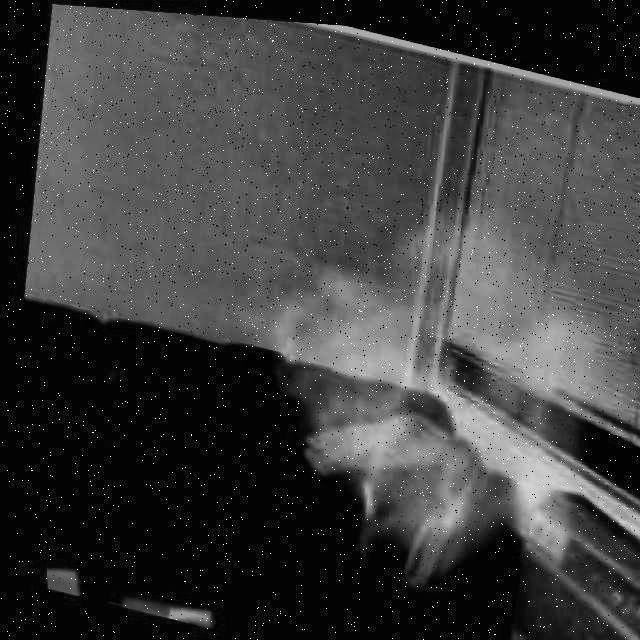Smoke: (158, 113, 640, 640)
